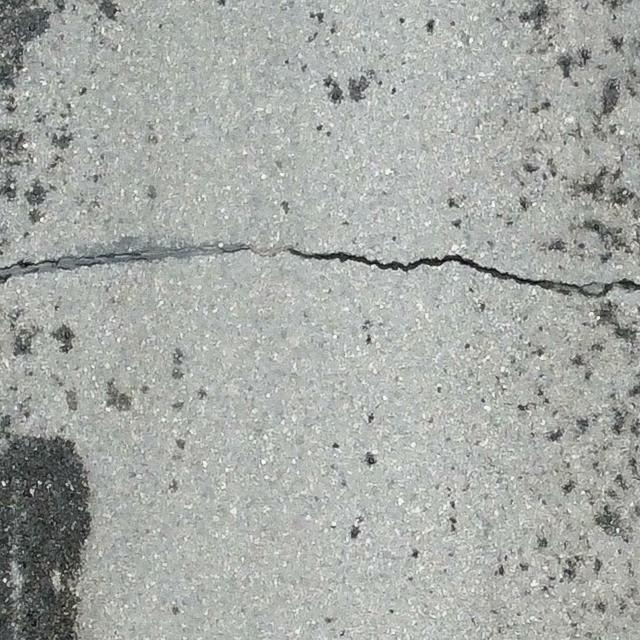TransverseCrack: (1, 242, 640, 298)
